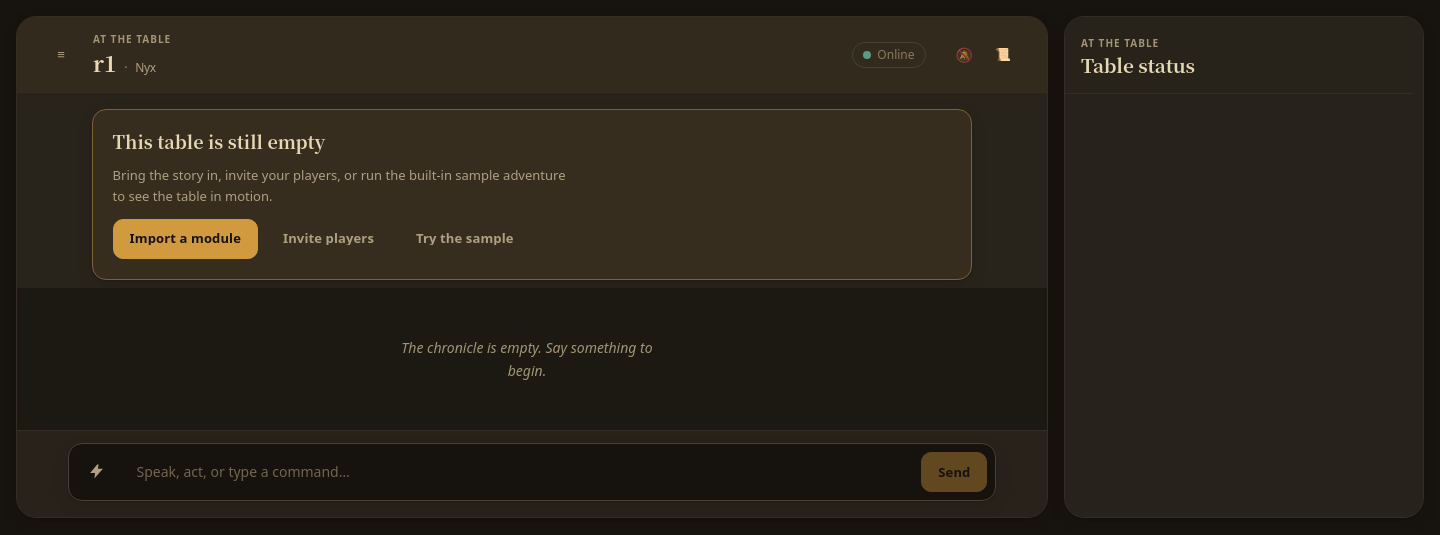
PlayView › shows keeper screens and the demo item in the app menu only for a keeper whose server offers it
This screenshot has width=1440, height=535.
Click the button named "Main menu" at (61, 54), box [41,34,81,74]
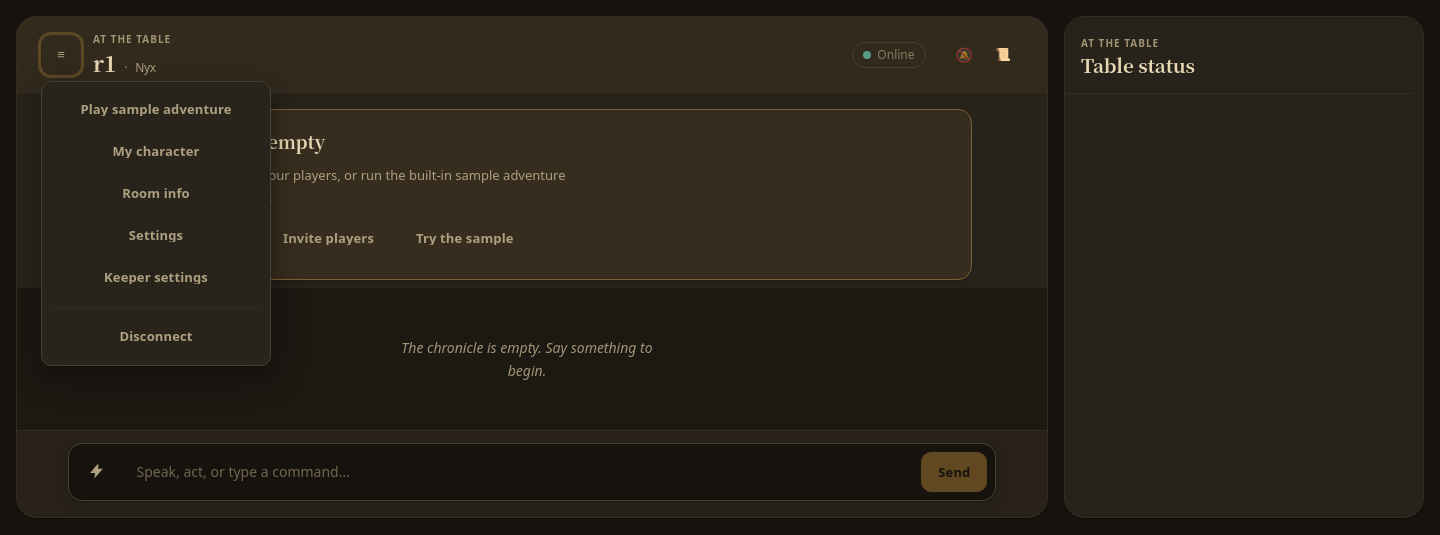
Expected: the menu item "Play sample adventure" is shown, [50,90,262,130]
Expected: the menu item "Keeper settings" is shown, [50,258,262,298]
